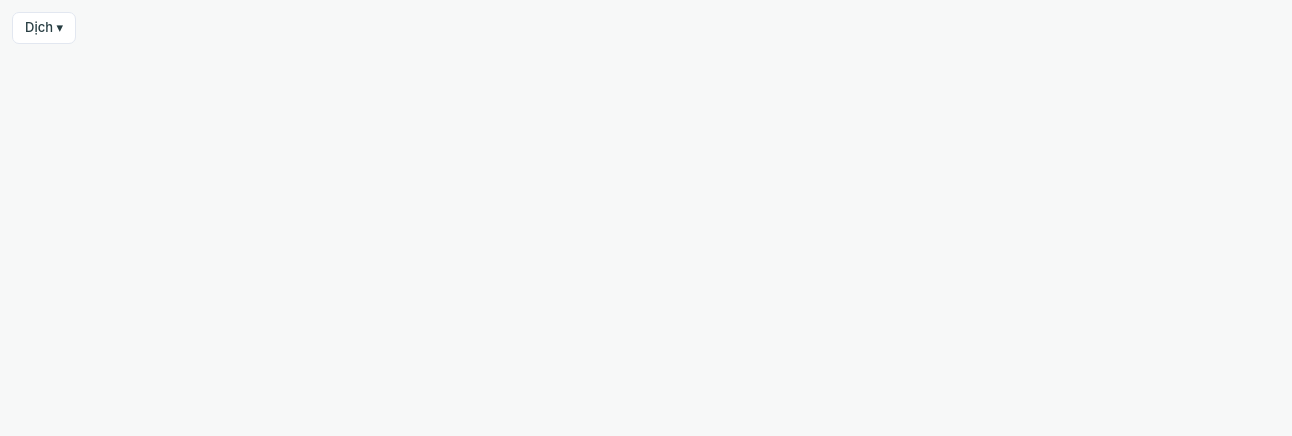
keeps the saved value on a rejected save and prevents actions while saving
This screenshot has width=1292, height=436.
Later steps or results of the test are not shown.
Click the button "Dịch ▾" at coordinates (44, 28), box [12,12,76,44]
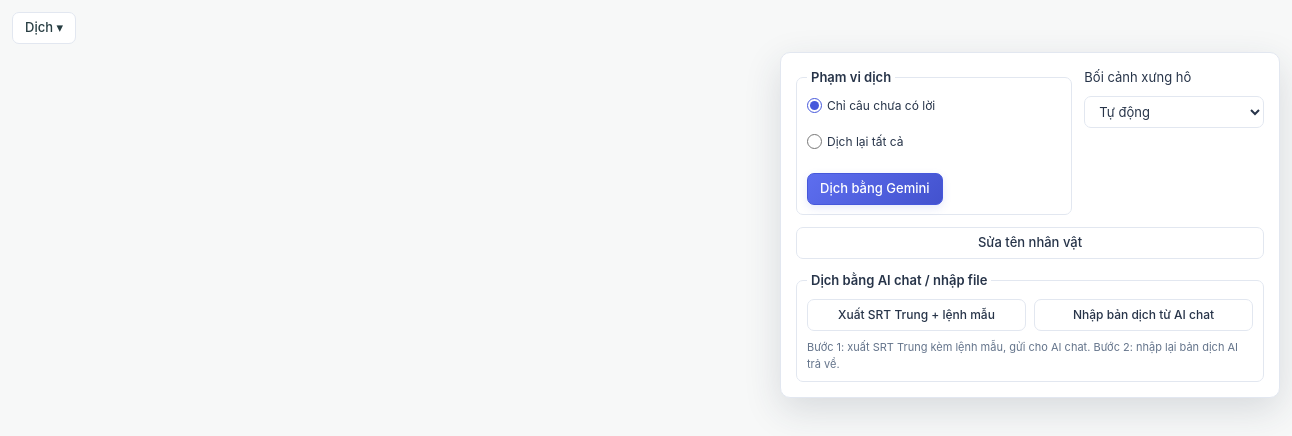
Select "Cổ trang" in the dropdown labelled "Bối cảnh xưng hô" at coordinates (1174, 112), box [1084,96,1264,128]
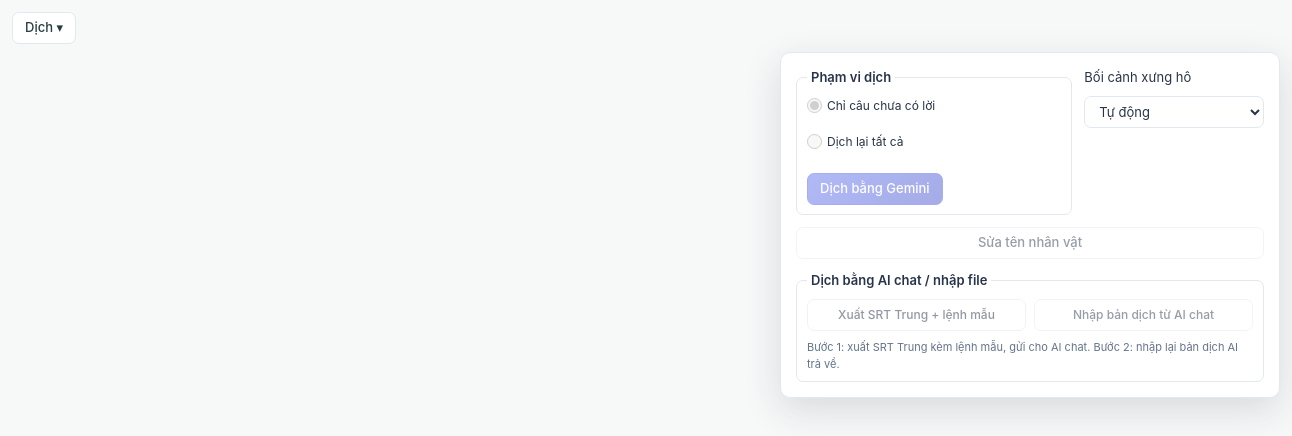
Expected: the button "Dịch bằng Gemini" is disabled, [807,172,943,204]
